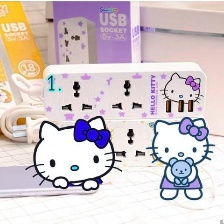book: (44, 0, 147, 108), (0, 0, 65, 142)
three_eye_plug: (38, 58, 207, 120), (103, 116, 161, 170)
